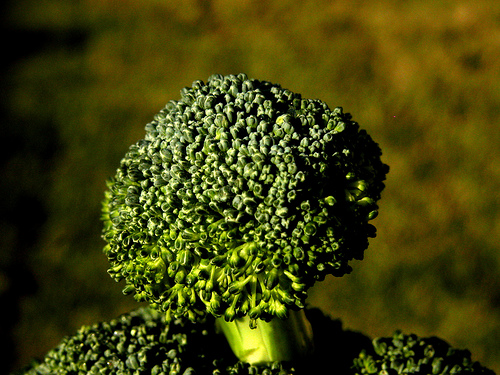broccoli: (96, 67, 397, 373), (20, 305, 187, 374), (354, 328, 497, 374)
